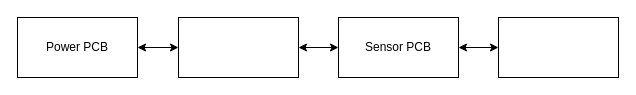
This 636x95 diagram has some shape labels left out. Each missing label, with the box of its shape:
Antenna PCB: (498, 16, 618, 78)
Main PCB: (178, 16, 298, 78)
